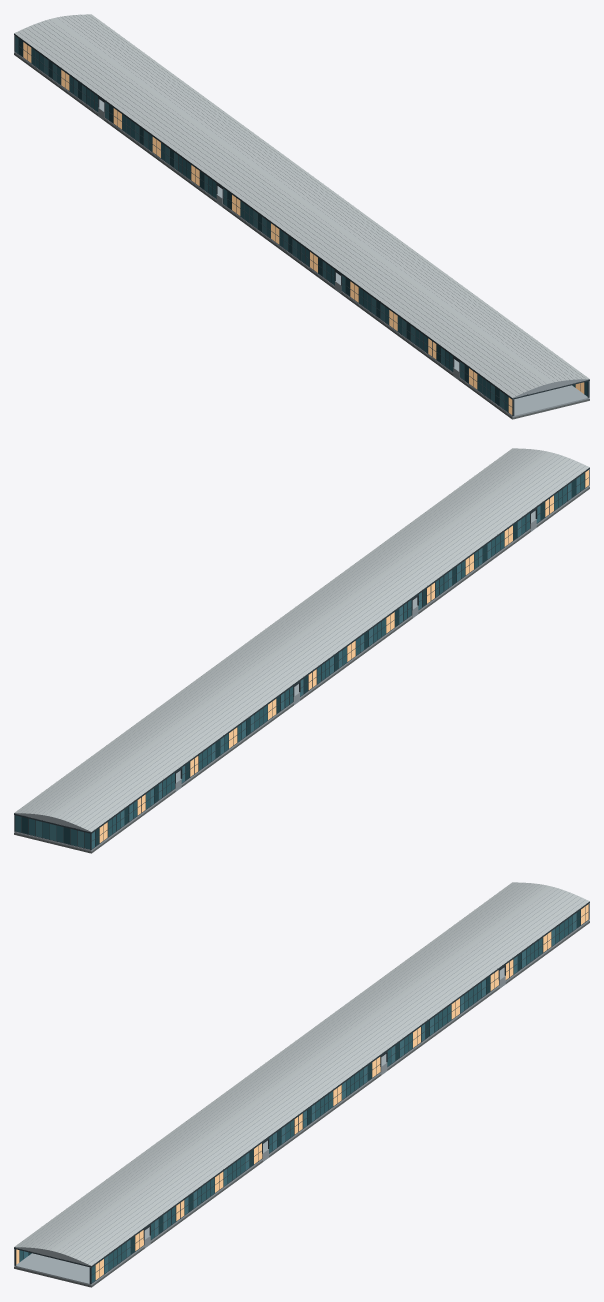
Rendered from CMN_pier.glb.
3 renders of one model, top to bottom at view 1: azimuth 30°, elevation 25°; view 2: azimuth 150°, elevation 25°; view 3: azimuth 330°, elevation 25°, orthographic.
Visible parts, largest first — view 1: CMN_pier; view 2: CMN_pier; view 3: CMN_pier.
Boxes of the visible parts, x1=… form: CMN_pier: x1=14, y1=14, x2=589, y2=419; CMN_pier: x1=14, y1=448, x2=589, y2=853; CMN_pier: x1=14, y1=882, x2=589, y2=1287.
Bounding box in the file's own units: 36 × 12 × 400.
9 materials, 9 textured.
